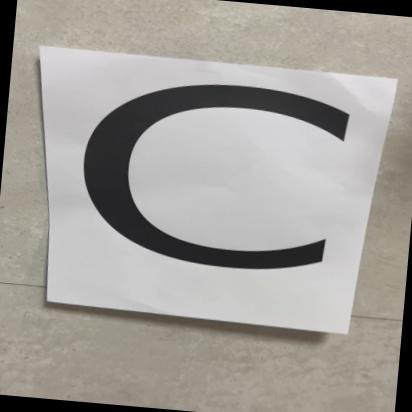seat: (23, 46, 398, 318)
